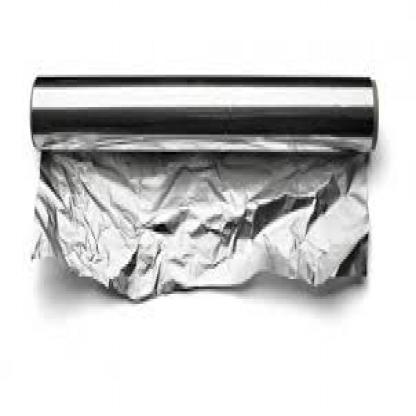Compsot: (27, 75, 378, 301)
